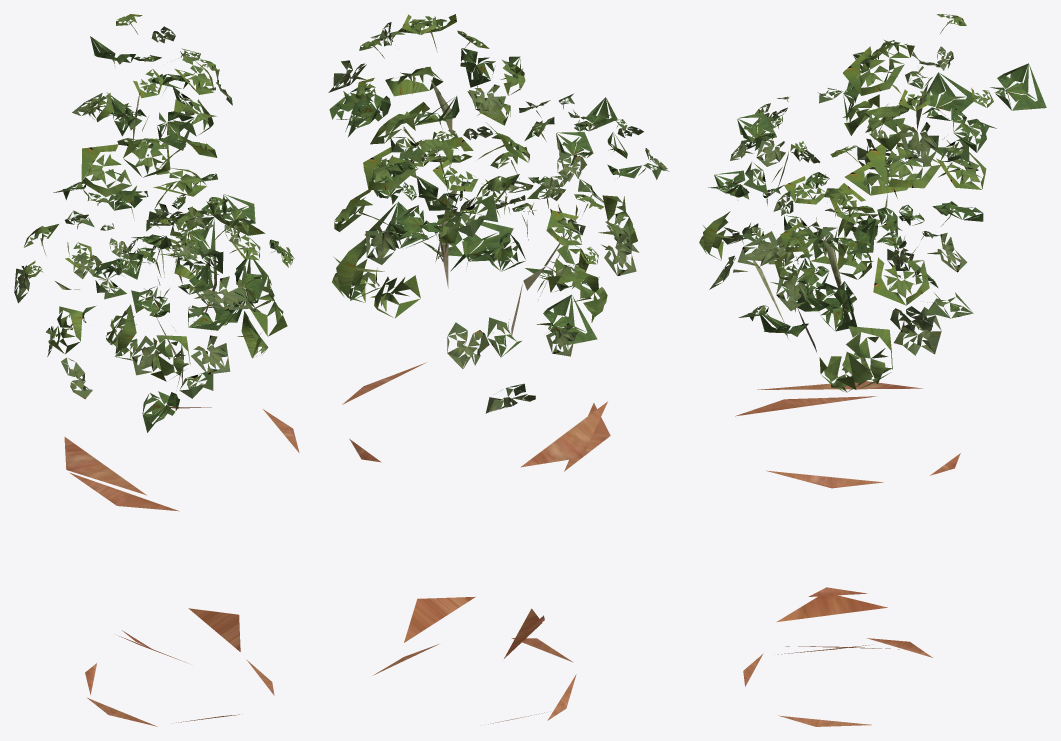
The model's file is potted_plant.glb.
The picture shows the model from 3 angles, left to right: view 1: azimuth 30°, elevation 25°; view 2: azimuth 150°, elevation 25°; view 3: azimuth 270°, elevation 25°; orthographic projection. The views are drawn at different scales.
Visible parts, largest first — view 1: potted_plant; view 2: potted_plant; view 3: potted_plant.
Part boxes in pixels (x1=…): potted_plant: x1=14, y1=14, x2=299, y2=726; potted_plant: x1=328, y1=14, x2=669, y2=724; potted_plant: x1=699, y1=14, x2=1046, y2=726.
Size of the model in its own units: 0.2468 by 0.5696 by 0.2672.
Materials: 2 (2 with a texture image).
